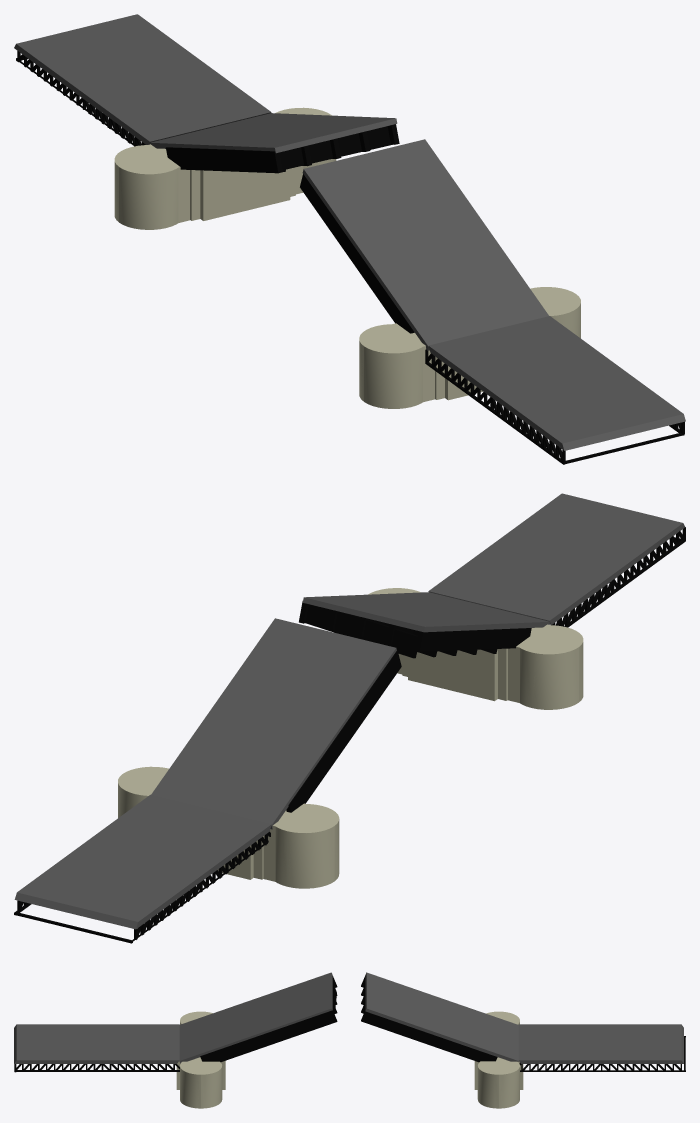
The model's file is drawbridge.glb.
3 views of the same model, one above another, from view 1: azimuth 30°, elevation 25°; view 2: azimuth 150°, elevation 25°; view 3: azimuth 270°, elevation 25° (orthographic). The views are drawn at different scales.
Visible parts, largest first — view 1: Plane.003; view 2: Plane.003; view 3: Plane.003.
Part boxes in pixels (x1=…): Plane.003: x1=14, y1=14, x2=685, y2=464; Plane.003: x1=14, y1=493, x2=685, y2=943; Plane.003: x1=14, y1=972, x2=685, y2=1108.
Size of the model in its own units: 15.28 by 9.82 by 68.73.
